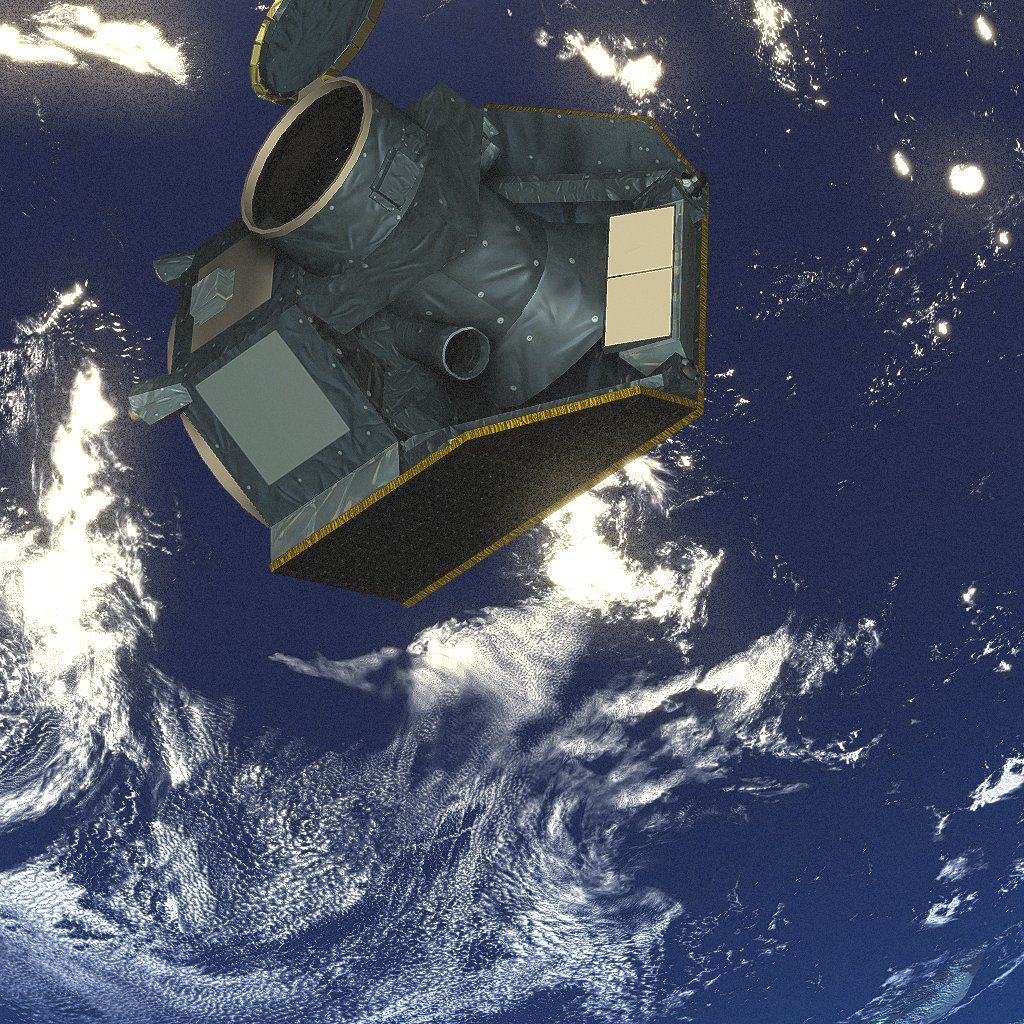cheops: (128, 0, 709, 608)
